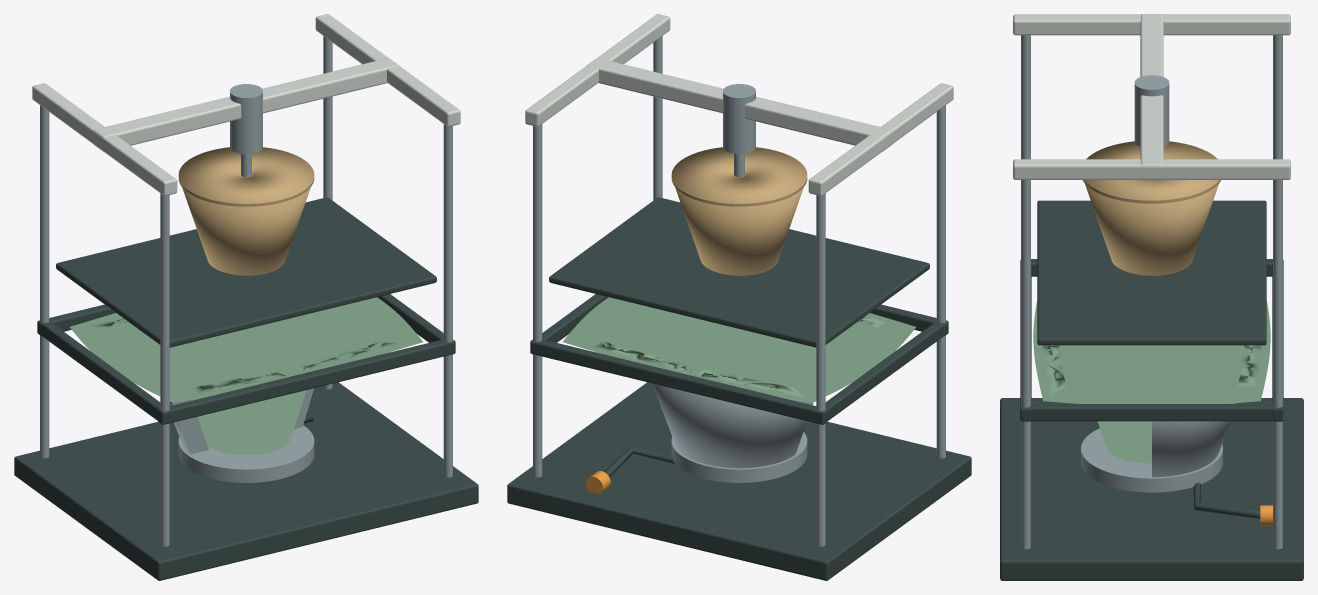
The model's file is thermoforming.glb.
3 views of the same model, side by side, from view 1: azimuth 30°, elevation 25°; view 2: azimuth 150°, elevation 25°; view 3: azimuth 270°, elevation 25° (orthographic). The views are drawn at different scales.
Parts seen in each view (by area): view 1: Machine base.001, Heater carriage.001, Forming sheet.001, Forming plug.001, Actuator bridge.001, Clamp rail.004, Mold base.001, Top beam.002, Frame column.004, Frame column.006, Frame column.005, Top beam.003 (+6 smaller); view 2: Machine base.001, Heater carriage.001, Forming sheet.001, Forming plug.001, Female mold.001, Actuator bridge.001, Clamp rail.005, Top beam.002, Frame column.005, Frame column.007, Frame column.004, Top beam.003 (+7 smaller); view 3: Machine base.001, Heater carriage.001, Forming sheet.001, Forming plug.001, Top beam.003, Top beam.002, Clamp rail.007, Mold base.001, Female mold.001, Frame column.006, Frame column.007, Actuator bridge.001 (+7 smaller).
Boxes of the visible parts, box(x1,y1,x2,y2) form: Machine base.001: box(14, 382, 478, 580); Heater carriage.001: box(56, 197, 436, 347); Forming sheet.001: box(70, 297, 422, 455); Forming plug.001: box(178, 147, 314, 275); Actuator bridge.001: box(93, 58, 398, 151); Clamp rail.004: box(157, 339, 455, 424); Mold base.001: box(178, 425, 314, 482); Top beam.002: box(32, 83, 177, 195); Frame column.004: box(160, 193, 169, 546); Frame column.006: box(443, 124, 452, 477); Frame column.005: box(40, 105, 49, 458); Top beam.003: box(315, 14, 460, 126); Machine base.001: box(507, 382, 971, 580); Heater carriage.001: box(549, 197, 929, 347); Forming sheet.001: box(563, 297, 915, 402); Forming plug.001: box(671, 147, 807, 275); Female mold.001: box(652, 383, 813, 468); Actuator bridge.001: box(587, 58, 892, 151); Clamp rail.005: box(530, 339, 828, 424); Top beam.002: box(808, 83, 953, 195); Frame column.005: box(816, 193, 825, 546); Frame column.007: box(533, 124, 542, 477); Frame column.004: box(936, 105, 945, 458); Top beam.003: box(525, 14, 670, 126); Machine base.001: box(1000, 398, 1303, 580); Heater carriage.001: box(1037, 200, 1266, 345); Forming sheet.001: box(1033, 301, 1270, 463); Forming plug.001: box(1085, 141, 1218, 275); Top beam.003: box(1013, 159, 1290, 179); Top beam.002: box(1013, 14, 1290, 35); Clamp rail.007: box(1030, 404, 1273, 421); Mold base.001: box(1081, 428, 1222, 492); Female mold.001: box(1152, 403, 1237, 477); Frame column.006: box(1021, 180, 1030, 549); Frame column.007: box(1273, 180, 1282, 549); Actuator bridge.001: box(1140, 14, 1163, 180).
Size of the model in its own units: 6 by 7.12 by 4.7.
